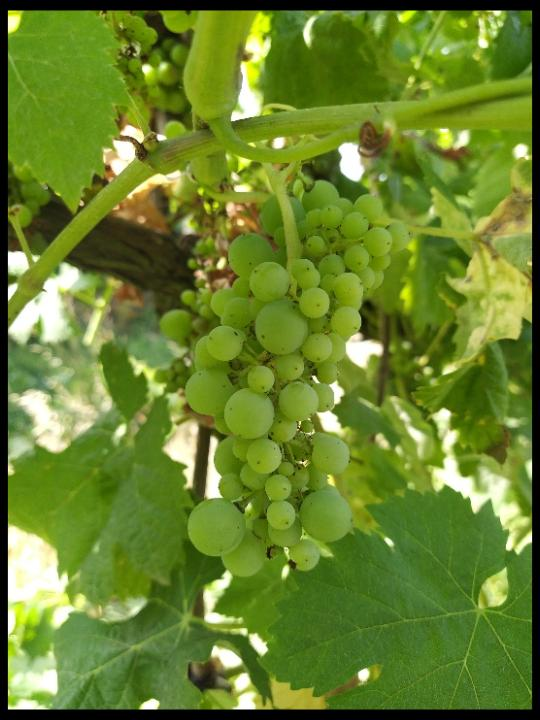grape: (180, 178, 414, 580)
